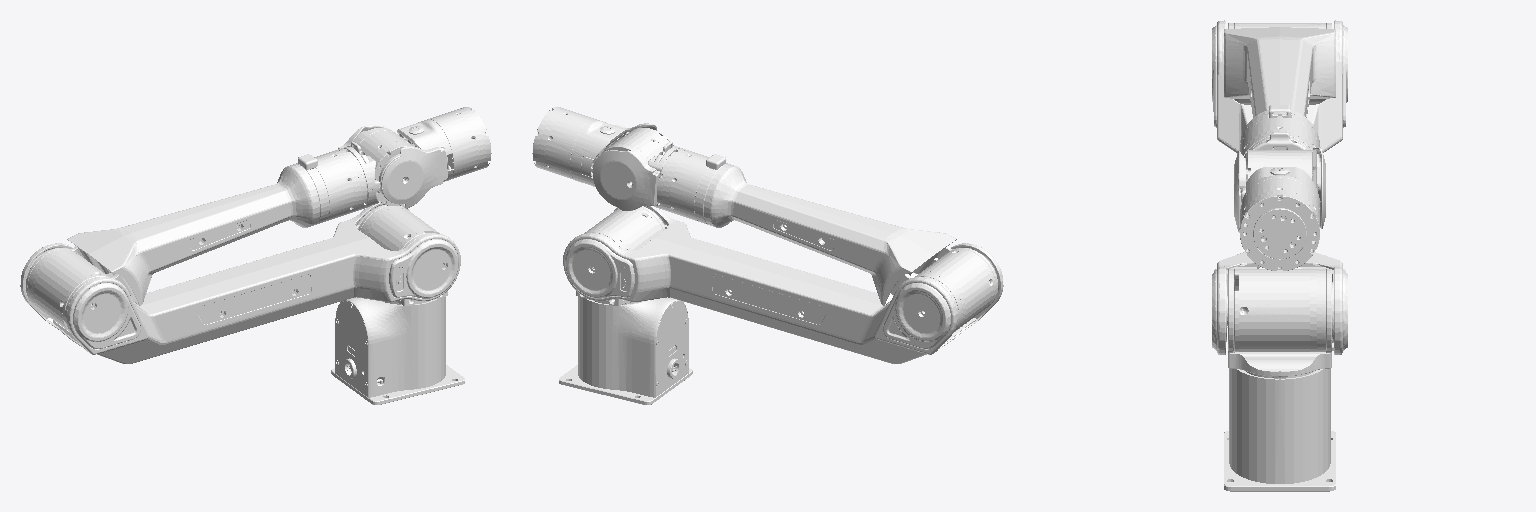
The robot description file, URDF, robot "piper_l_description":
<?xml version="1.0" encoding="utf-8"?>
<!-- This URDF was automatically created by SolidWorks to URDF Exporter! Originally created by [author] ([email redacted]) 
     Commit Version: 1.6.0-4-g7f85cfe  Build Version: 1.6.7995.38578
     For more information, please see http://wiki.ros.org/sw_urdf_exporter -->
<robot
  name="piper_l_description">
  <link
    name="base_link">
    <inertial>
      <origin
        xyz="-0.00868903062596066 -7.81380379250471E-05 0.0446229676471226"
        rpy="0 0 0" />
      <mass
        value="0.228506683240186" />
      <inertia
        ixx="0.000187231110737863"
        ixy="-1.08010529187549E-07"
        ixz="7.71183528612253E-06"
        iyy="0.000204010911651774"
        iyz="1.70367399031094E-07"
        izz="0.00023064619033588" />
    </inertial>
    <visual>
      <origin
        xyz="0 0 0"
        rpy="0 0 0" />
      <geometry>
        <mesh
          filename="package://piper_l_description/meshes/base_link.STL" />
      </geometry>
      <material
        name="">
        <color
          rgba="1 1 1 1" />
      </material>
    </visual>
    <collision>
      <origin
        xyz="0 0 0"
        rpy="0 0 0" />
      <geometry>
        <mesh
          filename="package://piper_l_description/meshes/base_link.STL" />
      </geometry>
    </collision>
  </link>
  <link
    name="Link1">
    <inertial>
      <origin
        xyz="0.000817078696798893 0.00114472671573105 -0.00814265146610774"
        rpy="0 0 0" />
      <mass
        value="0.104656591084326" />
      <inertia
        ixx="3.99694684501781E-05"
        ixy="2.71846206160129E-07"
        ixz="1.78275886199695E-07"
        iyy="5.78589658643876E-05"
        iyz="1.01977672018063E-07"
        izz="4.75851844139222E-05" />
    </inertial>
    <visual>
      <origin
        xyz="0 0 0"
        rpy="0 0 0" />
      <geometry>
        <mesh
          filename="package://piper_l_description/meshes/Link1.STL" />
      </geometry>
      <material
        name="">
        <color
          rgba="1 1 1 1" />
      </material>
    </visual>
    <collision>
      <origin
        xyz="0 0 0"
        rpy="0 0 0" />
      <geometry>
        <mesh
          filename="package://piper_l_description/meshes/Link1.STL" />
      </geometry>
    </collision>
  </link>
  <joint
    name="joint1"
    type="revolute">
    <origin
      xyz="0 0 0.123"
      rpy="0 0 0" />
    <parent
      link="base_link" />
    <child
      link="Link1" />
    <axis
      xyz="0 0 1" />
    <limit lower="-2.618" upper="2.618" effort="100" velocity="3" />
  </joint>
  <link
    name="Link2">
    <inertial>
      <origin
        xyz="0.214411452554835 -0.0136807991474291 0.00265923105206891"
        rpy="0 0 0" />
      <mass
        value="0.289829779851577" />
      <inertia
        ixx="0.000159609737372076"
        ixy="8.49438511625834E-05"
        ixz="-8.73341391348404E-07"
        iyy="0.00182424524515505"
        iyz="-1.7222217649261E-06"
        izz="0.00188778950006189" />
    </inertial>
    <visual>
      <origin
        xyz="0 0 0"
        rpy="0 0 0" />
      <geometry>
        <mesh
          filename="package://piper_l_description/meshes/Link2.STL" />
      </geometry>
      <material
        name="">
        <color
          rgba="1 1 1 1" />
      </material>
    </visual>
    <collision>
      <origin
        xyz="0 0 0"
        rpy="0 0 0" />
      <geometry>
        <mesh
          filename="package://piper_l_description/meshes/Link2.STL" />
      </geometry>
    </collision>
  </link>
  <joint
    name="joint2"
    type="revolute">
    <origin
      xyz="0 0 0"
      rpy="1.5708 -0.10598 3.1416" />
    <parent
      link="Link1" />
    <child
      link="Link2" />
    <axis
      xyz="0 0 1" />
    <limit lower="0" upper="3.14" effort="100" velocity="3" />
  </joint>
  <link
    name="Link3">
    <inertial>
      <origin
        xyz="-0.00911397384332024 -0.149791842909887 -0.000591510024110218"
        rpy="0 0 0" />
      <mass
        value="0.144963320053385" />
      <inertia
        ixx="0.000284000764414434"
        ixy="6.61776597268393E-06"
        ixz="3.88642213881568E-07"
        iyy="4.88134965842348E-05"
        iyz="8.80027301936097E-07"
        izz="0.000297733639002112" />
    </inertial>
    <visual>
      <origin
        xyz="0 0 0"
        rpy="0 0 0" />
      <geometry>
        <mesh
          filename="package://piper_l_description/meshes/Link3.STL" />
      </geometry>
      <material
        name="">
        <color
          rgba="1 1 1 1" />
      </material>
    </visual>
    <collision>
      <origin
        xyz="0 0 0"
        rpy="0 0 0" />
      <geometry>
        <mesh
          filename="package://piper_l_description/meshes/Link3.STL" />
      </geometry>
    </collision>
  </link>
  <joint
    name="joint3"
    type="revolute">
    <origin
      xyz="0.33823 0 0"
      rpy="0 0 -1.8325" />
    <parent
      link="Link2" />
    <child
      link="Link3" />
    <axis
      xyz="0 0 1" />
    <limit lower="-2.697" upper="0" effort="100" velocity="3" />
  </joint>
  <link
    name="Link4">
    <inertial>
      <origin
        xyz="0.0010653905699945 0.00476990191039629 -0.00995810184233214"
        rpy="0 0 0" />
      <mass
        value="0.063036548689954" />
      <inertia
        ixx="1.68358640686144E-05"
        ixy="-1.51073528999065E-08"
        ixz="-3.61196055919328E-07"
        iyy="2.79335598814104E-05"
        iyz="1.18113194001076E-07"
        izz="1.85339684805634E-05" />
    </inertial>
    <visual>
      <origin
        xyz="0 0 0"
        rpy="0 0 0" />
      <geometry>
        <mesh
          filename="package://piper_l_description/meshes/Link4.STL" />
      </geometry>
      <material
        name="">
        <color
          rgba="1 1 1 1" />
      </material>
    </visual>
    <collision>
      <origin
        xyz="0 0 0"
        rpy="0 0 0" />
      <geometry>
        <mesh
          filename="package://piper_l_description/meshes/Link4.STL" />
      </geometry>
    </collision>
  </link>
  <joint
    name="joint4"
    type="revolute">
    <origin
      xyz="0 -0.3215 0"
      rpy="1.5708 0 0.1557" />
    <parent
      link="Link3" />
    <child
      link="Link4" />
    <axis
      xyz="0 0 1" />
    <limit lower="-1.832" upper="1.832" effort="100" velocity="3" />
  </joint>
  <link
    name="Link5">
    <inertial>
      <origin
        xyz="-5.62618579153795E-05 -0.0453229588602131 -0.00689048082401968"
        rpy="0 0 0" />
      <mass
        value="0.069099989781007" />
      <inertia
        ixx="1.94244470320096E-05"
        ixy="-3.01270043465718E-08"
        ixz="-1.82908713601451E-08"
        iyy="2.97665185121334E-05"
        iyz="1.74803886281955E-07"
        izz="2.43073597160068E-05" />
    </inertial>
    <visual>
      <origin
        xyz="0 0 0"
        rpy="0 0 0" />
      <geometry>
        <mesh
          filename="package://piper_l_description/meshes/Link5.STL" />
      </geometry>
      <material
        name="">
        <color
          rgba="1 1 1 1" />
      </material>
    </visual>
    <collision>
      <origin
        xyz="0 0 0"
        rpy="0 0 0" />
      <geometry>
        <mesh
          filename="package://piper_l_description/meshes/Link5.STL" />
      </geometry>
    </collision>
  </link>
  <joint
    name="joint5"
    type="revolute">
    <origin
      xyz="0 0 0"
      rpy="-1.5708 -0.087272 0" />
    <parent
      link="Link4" />
    <child
      link="Link5" />
    <axis
      xyz="0 0 -1" />
    <limit lower="-1.22" upper="1.22" effort="100" velocity="3" />
  </joint>
  <link
    name="Link6">
    <inertial>
      <origin
        xyz="-3.49720252756924E-15 -3.47851379593264E-06 -0.00315807577104896"
        rpy="0 0 0" />
      <mass
        value="0.00563228459599247" />
      <inertia
        ixx="5.13060019382932E-07"
        ixy="-1.55709158367416E-20"
        ixz="1.27617424904681E-19"
        iyy="5.13060019383189E-07"
        iyz="6.20132760426175E-20"
        izz="9.81761489300716E-07" />
    </inertial>
    <visual>
      <origin
        xyz="0 0 0"
        rpy="0 0 0" />
      <geometry>
        <mesh
          filename="package://piper_l_description/meshes/Link6.STL" />
      </geometry>
      <material
        name="">
        <color
          rgba="1 1 1 1" />
      </material>
    </visual>
    <collision>
      <origin
        xyz="0 0 0"
        rpy="0 0 0" />
      <geometry>
        <mesh
          filename="package://piper_l_description/meshes/Link6.STL" />
      </geometry>
    </collision>
  </link>
  <joint
    name="joint6"
    type="revolute">
    <origin
      xyz="0 -0.091 0"
      rpy="1.5708 0 0" />
    <parent
      link="Link5" />
    <child
      link="Link6" />
    <axis
      xyz="0 0 1" />
    <limit lower="-3.14" upper="3.14" effort="100" velocity="3" />
  </joint>
</robot>

--- Facts derived from the render (not from the file) ---
Views: 3 orthographic renders of the robot side by side, from view 1: azimuth 30°, elevation 25°; view 2: azimuth 150°, elevation 25°; view 3: azimuth 270°, elevation 25°.
Model piper_l_description with 7 links and 6 joints (6 revolute), rooted at base_link, posed all joints at 0.
Links seen in each view (by area): view 1: Link2, Link3, base_link, Link5, Link4, Link1; view 2: Link2, Link3, base_link, Link4, Link5, Link1; view 3: base_link, Link1, Link3, Link2, Link5, Link4, Link6.
Boxes of the visible links, x1=… form: Link2: x1=20, y1=201, x2=460, y2=363; Link3: x1=26, y1=148, x2=366, y2=326; base_link: x1=331, y1=297, x2=464, y2=404; Link5: x1=379, y1=107, x2=491, y2=208; Link4: x1=338, y1=125, x2=412, y2=208; Link1: x1=358, y1=205, x2=447, y2=305; Link2: x1=563, y1=206, x2=1003, y2=363; Link3: x1=657, y1=148, x2=997, y2=326; base_link: x1=559, y1=297, x2=692, y2=404; Link4: x1=592, y1=128, x2=679, y2=210; Link5: x1=532, y1=107, x2=670, y2=186; Link1: x1=576, y1=206, x2=665, y2=305; base_link: x1=1224, y1=368, x2=1335, y2=491; Link1: x1=1228, y1=269, x2=1333, y2=378; Link3: x1=1224, y1=23, x2=1335, y2=155; Link2: x1=1212, y1=20, x2=1347, y2=354; Link5: x1=1234, y1=151, x2=1319, y2=270; Link4: x1=1244, y1=132, x2=1325, y2=228; Link6: x1=1253, y1=208, x2=1306, y2=258.
Size in the robot's own frame: 0.4414 by 0.097 by 0.2448 metres.
7 mesh visuals loaded from 7 distinct referenced files (7 binary STL).
